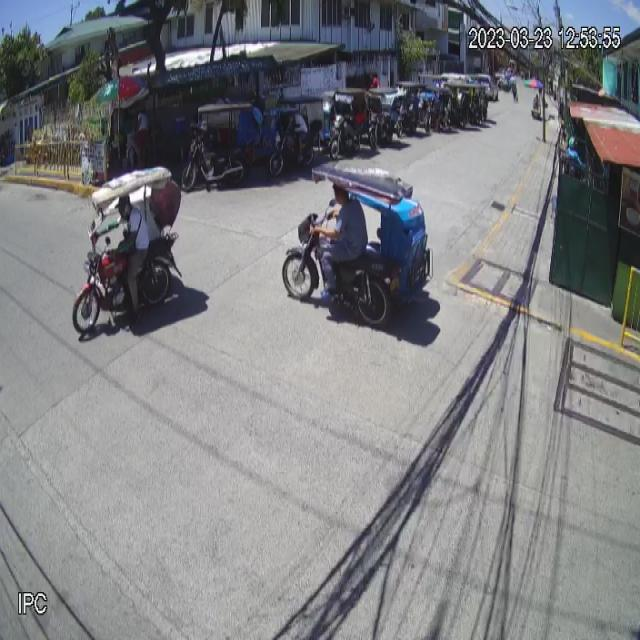Tricycle: (281, 160, 432, 330), (72, 165, 182, 335)
